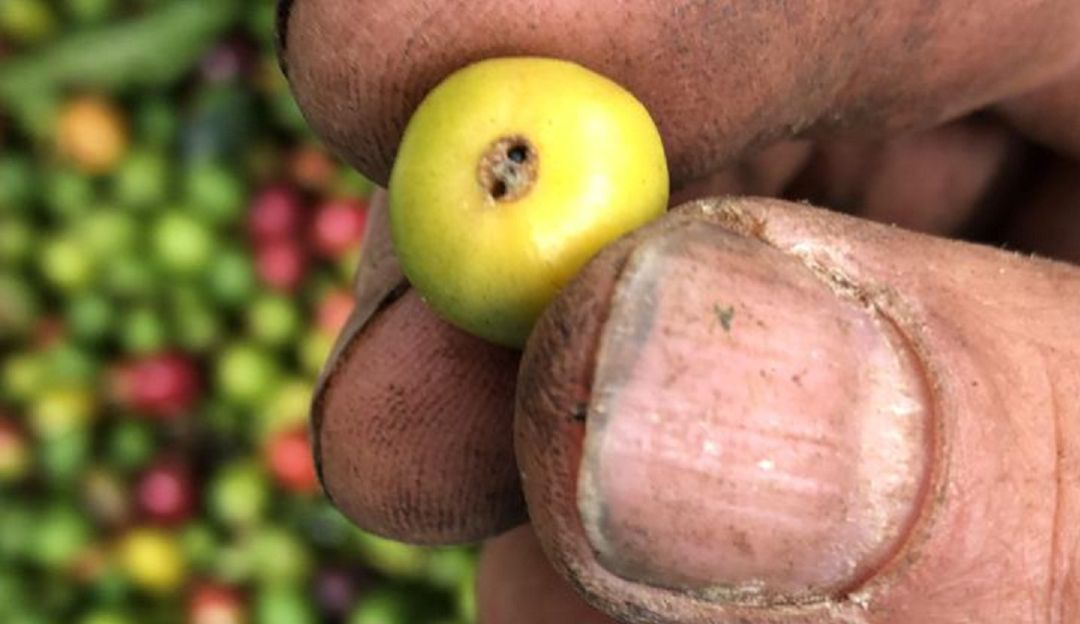broca de cafe: (447, 100, 567, 276)
